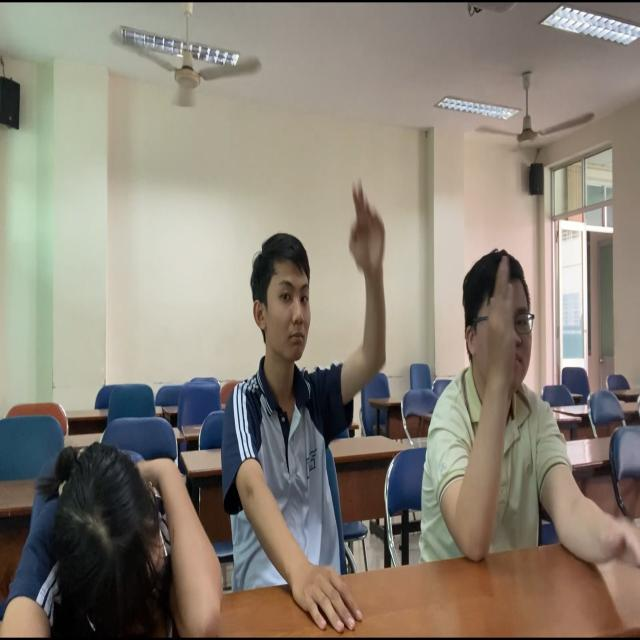raise_hand: (411, 229, 572, 590)
sleep: (3, 391, 249, 640)
